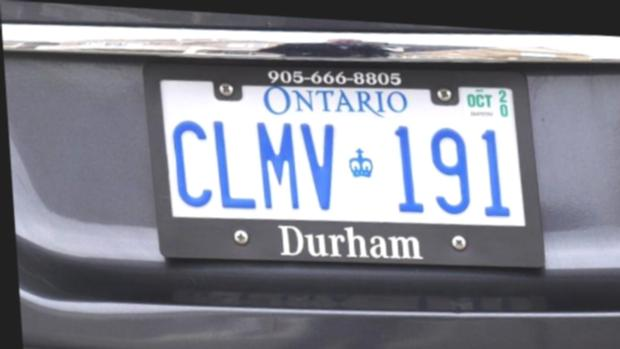License_Plate: (139, 45, 542, 272)
